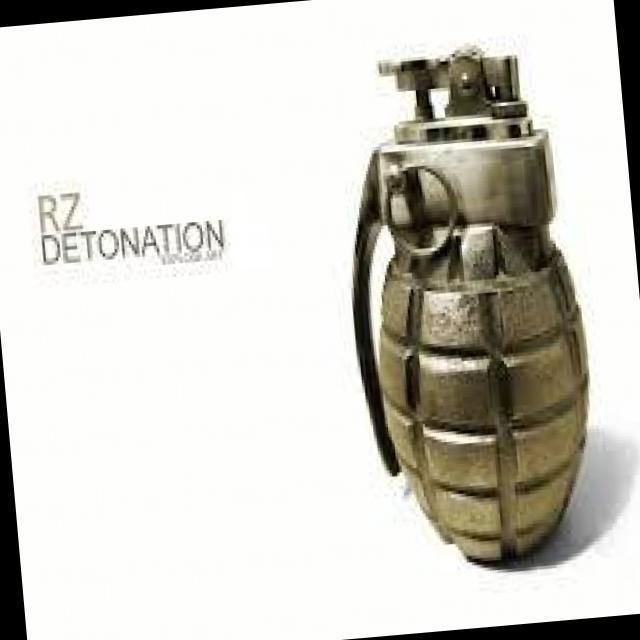grenade: (331, 31, 607, 584)
